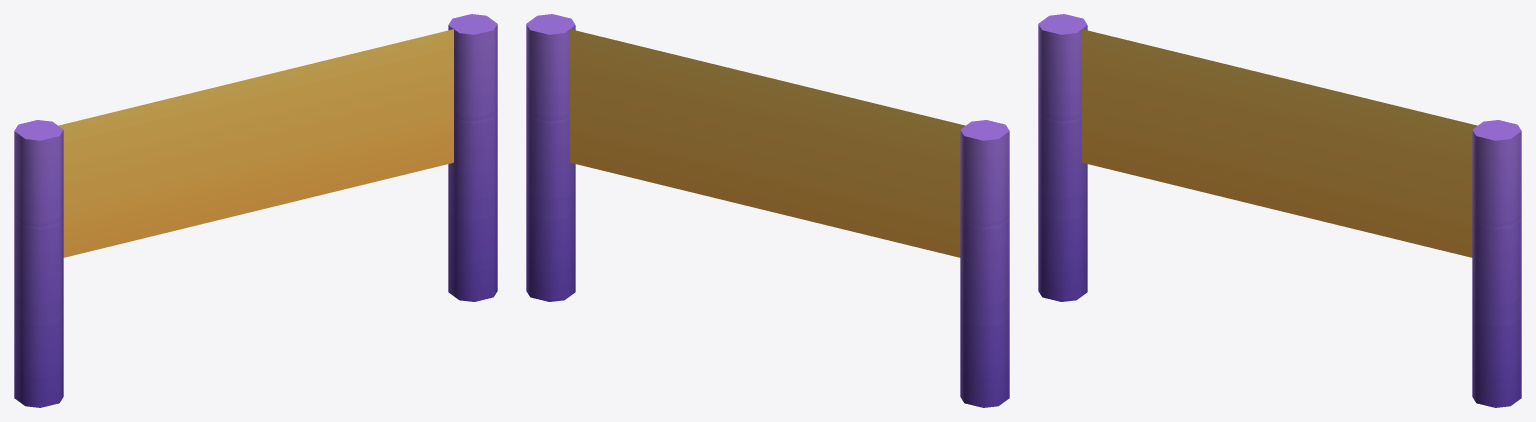
The model's file is banner.glb.
3 renders of one model, left to right at view 1: azimuth 30°, elevation 25°; view 2: azimuth 150°, elevation 25°; view 3: azimuth 330°, elevation 25°, orthographic.
Parts seen in each view (by area): view 1: banner; view 2: banner; view 3: banner.
Boxes of the visible parts, <box> form: banner: <box>14,14,497,407</box>; banner: <box>526,14,1009,407</box>; banner: <box>1038,14,1521,407</box>.
Bounding box in the file's own units: 0.925 × 0.5001 × 0.075.
Materials: 1 (1 with a texture image).
